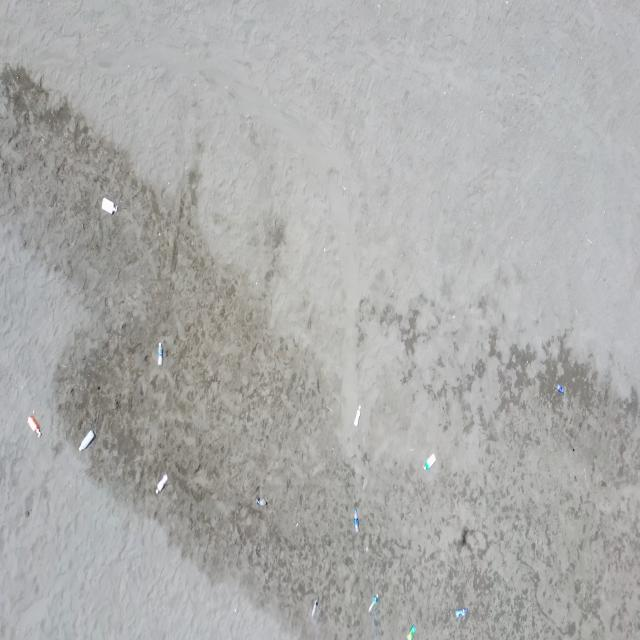plastic-bottle: (78, 427, 96, 452), (154, 474, 171, 496), (422, 451, 438, 473), (101, 197, 117, 216), (29, 415, 42, 436), (310, 594, 321, 618), (353, 404, 363, 428), (352, 507, 360, 535), (156, 341, 164, 367), (404, 623, 416, 640), (368, 594, 379, 612), (454, 606, 468, 620), (256, 496, 267, 508), (555, 382, 566, 394)
